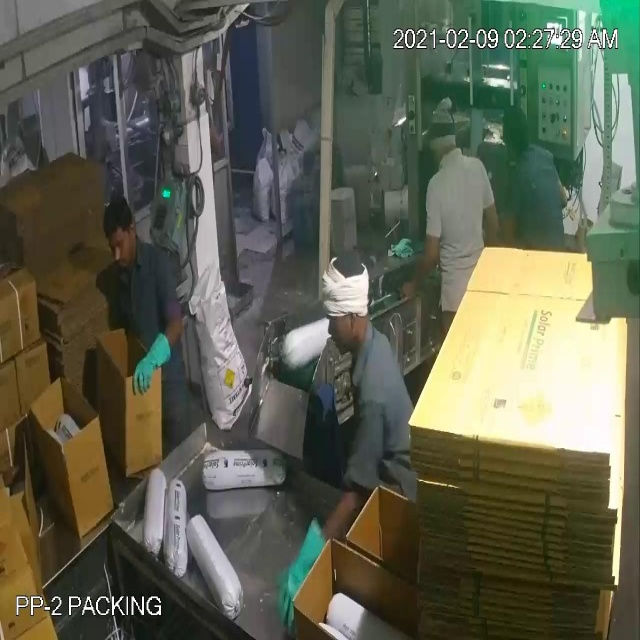Guantes: (274, 513, 333, 627), (122, 329, 175, 400)
Sin_guantes: (398, 228, 441, 308)
